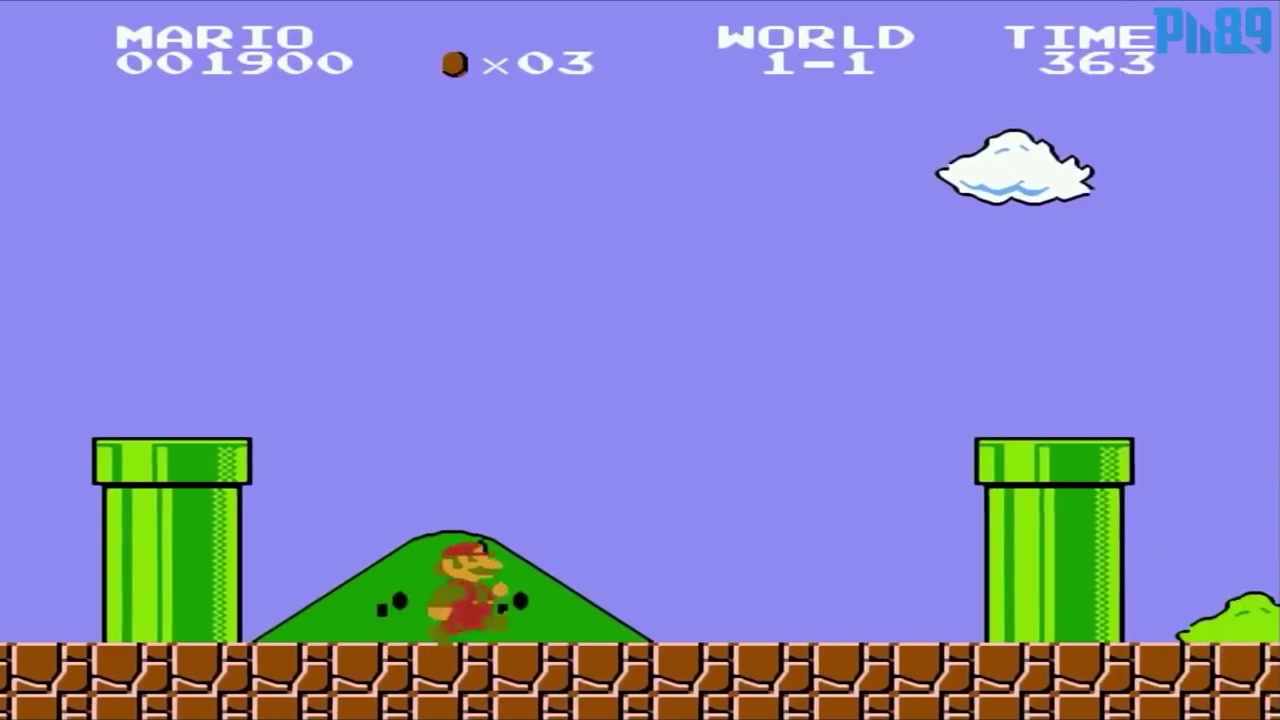mario: (416, 538, 513, 643)
